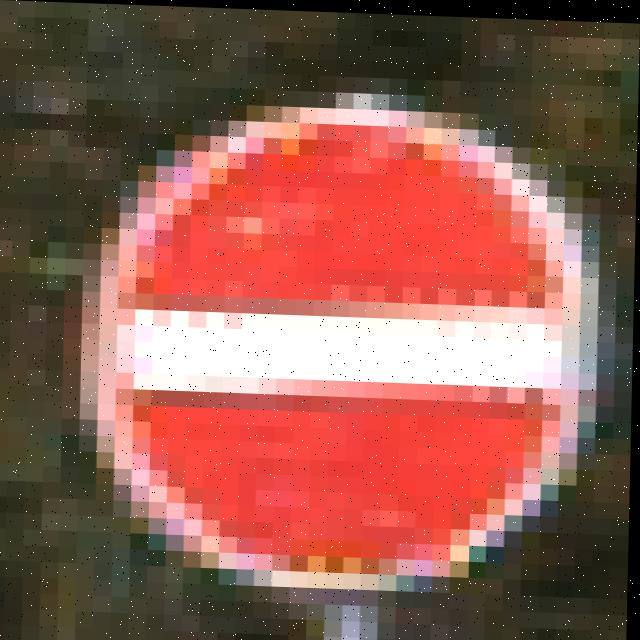road_rough: (73, 46, 623, 607)
